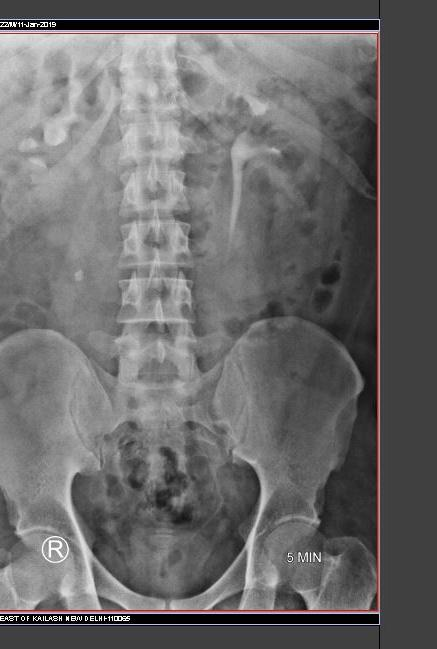bladder: (97, 518, 235, 599)
left kidney: (207, 68, 333, 232)
vertebrae: (116, 120, 186, 166)
